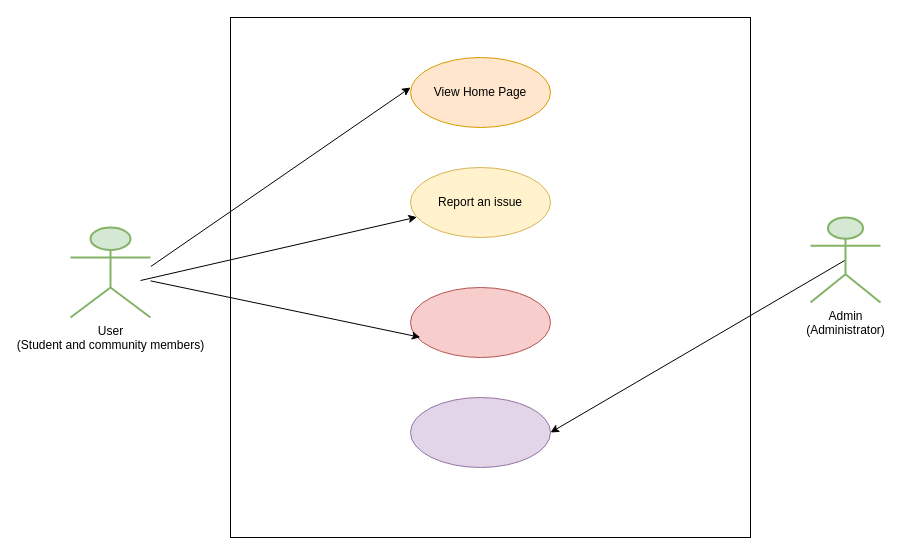
Some shapes in this 902 by 555 pixel diagram are drawn without their labels. The centre of each missing label's shape, as x and y in pixels:
"View All Reports" belongs at (x=480, y=432).
"View Reported Issues" belongs at (x=480, y=322).
